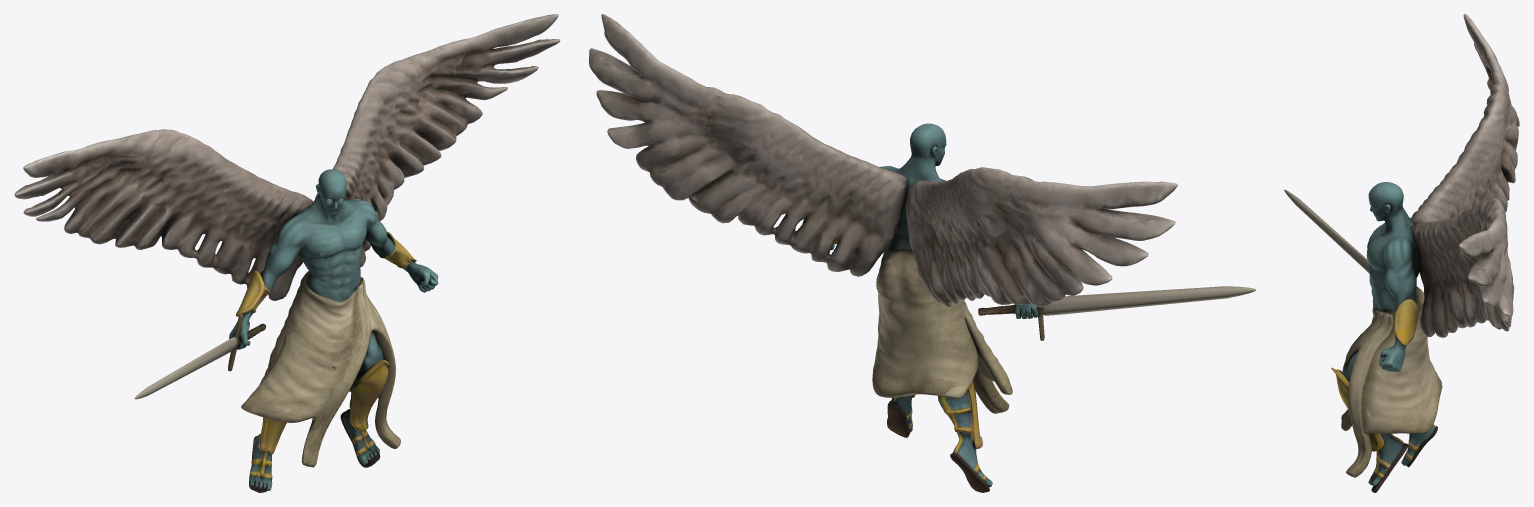
File: MZ4250 - Angel Planetar Updated.glb
The picture shows the model from 3 angles, left to right: view 1: azimuth 30°, elevation 25°; view 2: azimuth 150°, elevation 25°; view 3: azimuth 270°, elevation 25°; orthographic projection. The views are drawn at different scales.
Visible parts, largest first — view 1: Planetar Updated.001; view 2: Planetar Updated.001; view 3: Planetar Updated.001.
Part boxes in pixels (x1,y1,x2,y2): Planetar Updated.001: (14, 14, 560, 492); Planetar Updated.001: (589, 14, 1255, 492); Planetar Updated.001: (1284, 14, 1519, 492).
Bounding box in the file's own units: 112 × 75.48 × 42.93.
Materials: 1 (1 with a texture image).
